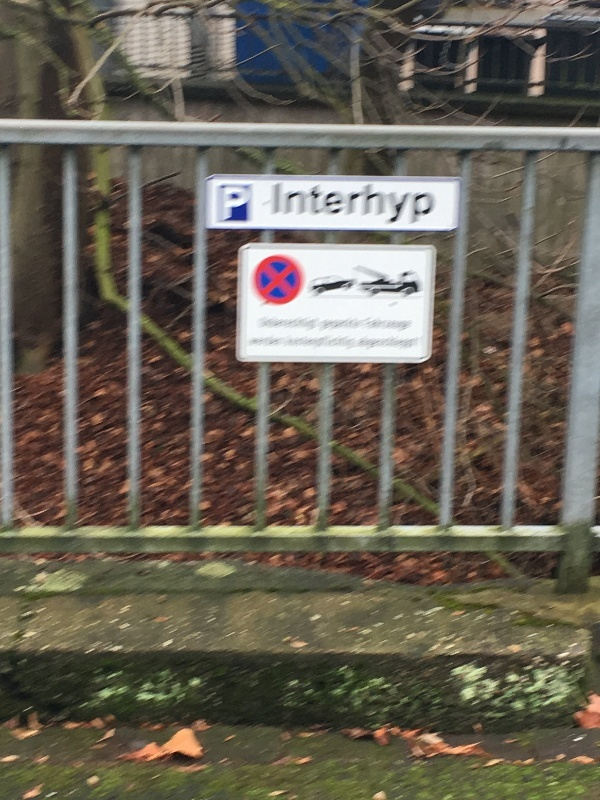text: (289, 182, 304, 226), (305, 182, 320, 226), (321, 182, 336, 226), (337, 182, 352, 226), (353, 182, 368, 226), (369, 182, 384, 226), (385, 182, 400, 226), (401, 182, 416, 226), (417, 182, 432, 226), (274, 182, 288, 226), (225, 188, 240, 223), (241, 188, 251, 223), (273, 316, 288, 331), (289, 316, 304, 331), (305, 316, 320, 331), (321, 316, 336, 331), (337, 316, 352, 331), (353, 316, 368, 331), (369, 316, 384, 331), (385, 316, 400, 331), (259, 316, 272, 331), (257, 336, 272, 348), (273, 336, 288, 348), (289, 336, 304, 348), (305, 336, 320, 348), (321, 336, 336, 348), (337, 336, 352, 348), (353, 336, 368, 348), (369, 336, 384, 348), (385, 336, 400, 348), (401, 336, 416, 348), (401, 316, 412, 331), (248, 336, 256, 348), (433, 182, 435, 226), (223, 188, 224, 223), (417, 336, 419, 348)
